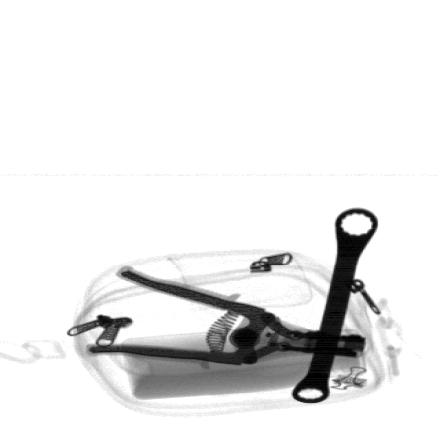Pliers: (89, 267, 366, 365)
Wrench: (288, 208, 380, 406)
